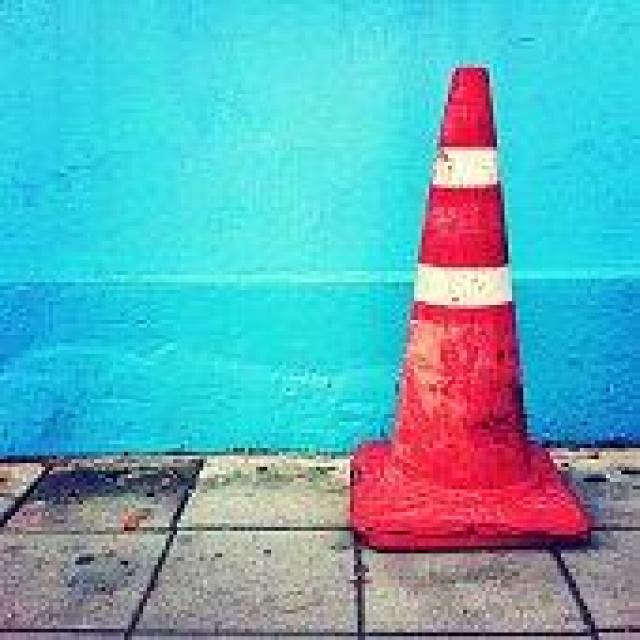Cone: (347, 64, 602, 550)
